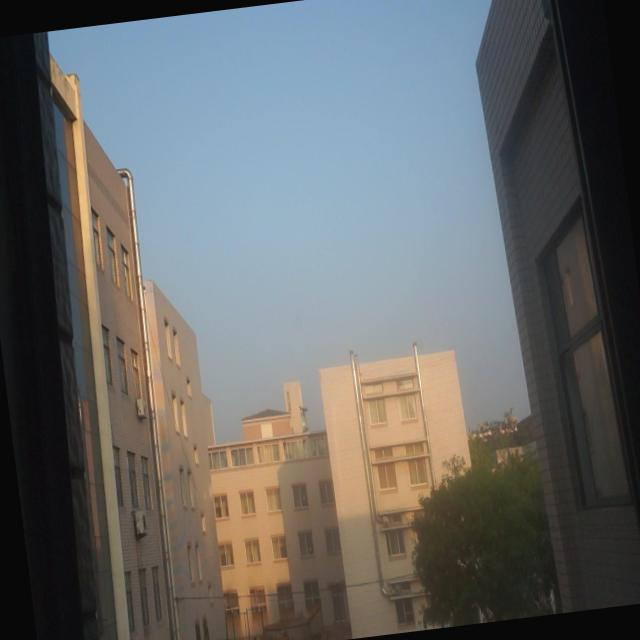drone: (297, 401, 310, 422)
